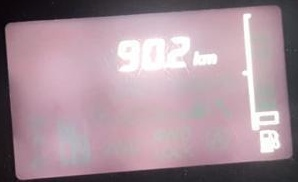-: (162, 61, 166, 68)
0: (140, 37, 163, 70)
2: (166, 35, 190, 68)
9: (114, 38, 139, 71)
X: (191, 50, 202, 66), (202, 52, 216, 64)
